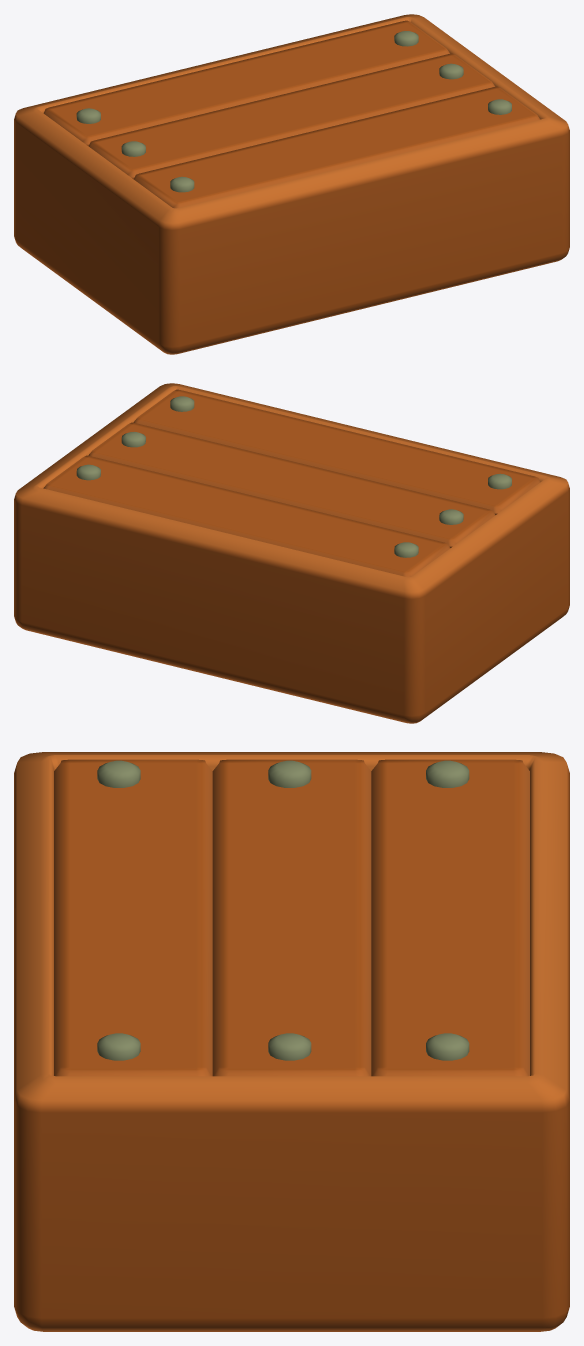
Rendered from Wooden_Crate_2x3.fbx.
3 renders of one model, top to bottom at view 1: azimuth 30°, elevation 25°; view 2: azimuth 150°, elevation 25°; view 3: azimuth 270°, elevation 25°, orthographic. The views are drawn at different scales.
Parts seen in each view (by area): view 1: Wooden Crate 2x3; view 2: Wooden Crate 2x3; view 3: Wooden Crate 2x3.
Part boxes in pixels (x1,y1,x2,y2): Wooden Crate 2x3: [14, 14, 569, 354]; Wooden Crate 2x3: [14, 383, 569, 723]; Wooden Crate 2x3: [14, 752, 569, 1331].
Bounding box in the file's own units: 299 × 104 × 200.
